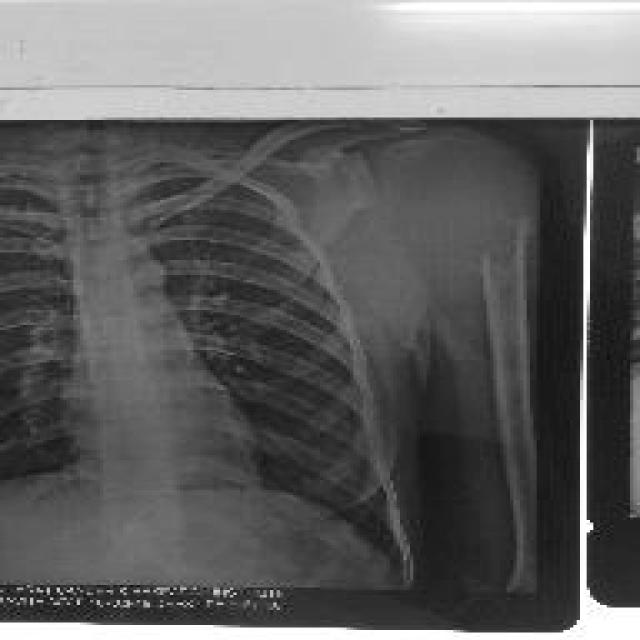bone-cancer: (360, 124, 537, 275)
